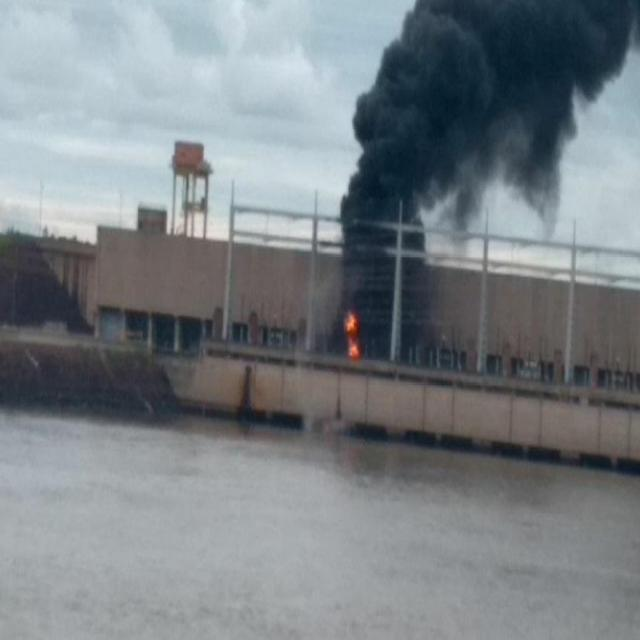Fire: (346, 315, 356, 357)
